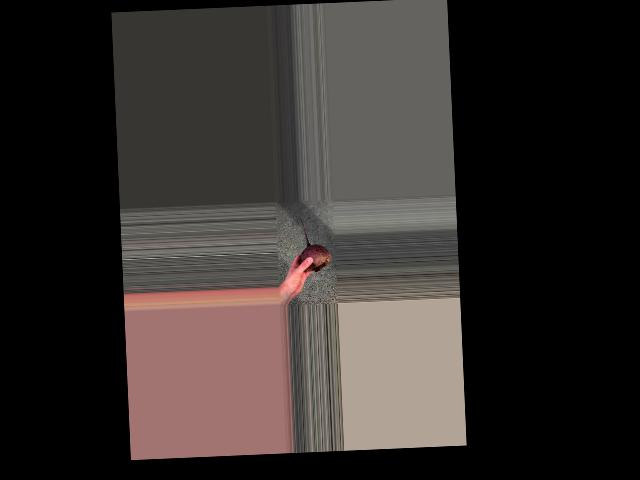beet: (299, 216, 331, 272)
